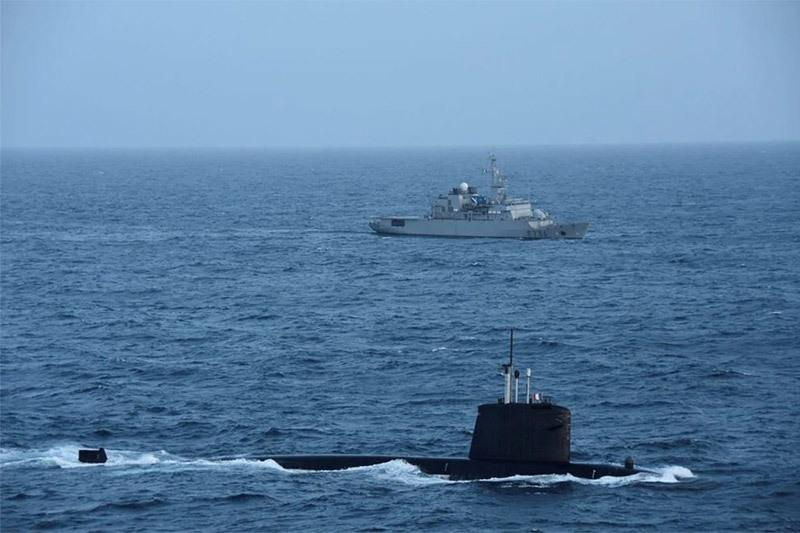MIL_Ship: (368, 153, 592, 242)
